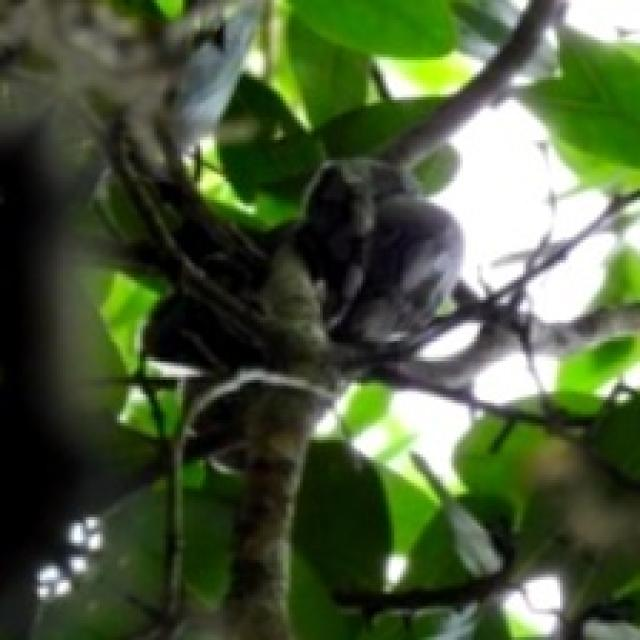reticulated python: (296, 160, 462, 355)
